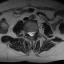CCS_normal: (30, 29, 32, 38)
LFS_normal: (34, 28, 37, 36)
LLS_normal: (32, 29, 34, 37)
RFS_normal: (26, 29, 28, 36)
RLS_normal: (28, 29, 30, 37)
